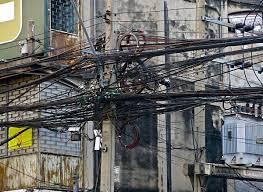wires: (117, 32, 263, 117), (0, 36, 104, 128)
